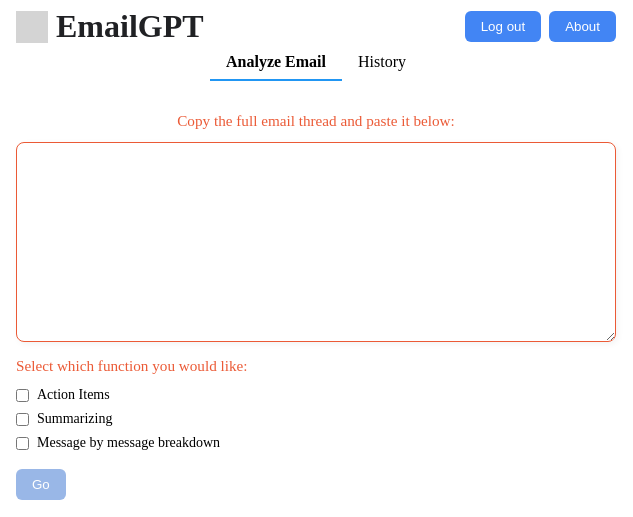
Test: MainScreen › switches between tabs
Click on the history tab
Click the text "History": [382, 62] box 358,53 -> 406,70
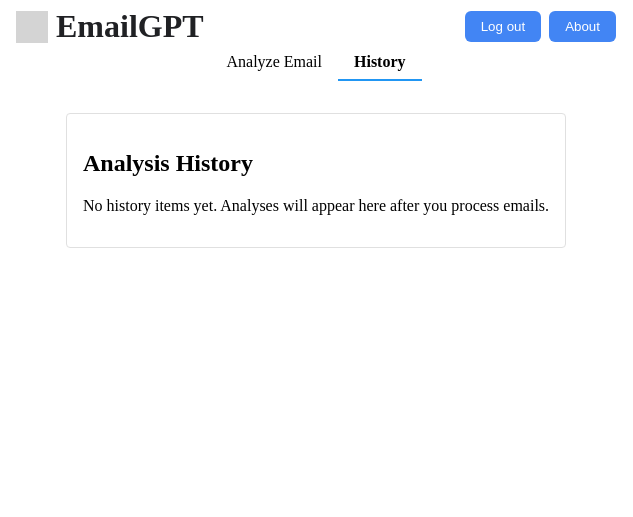
expect the heading "Analysis History" is shown: met, box 83,150 -> 253,176
expect the text "No history items yet. Analyses will appear here after you process emails." is shown: met, box 83,197 -> 549,215
Click on the analyze tab
Click the text "Analyze Email": [274, 62] box 226,53 -> 322,70
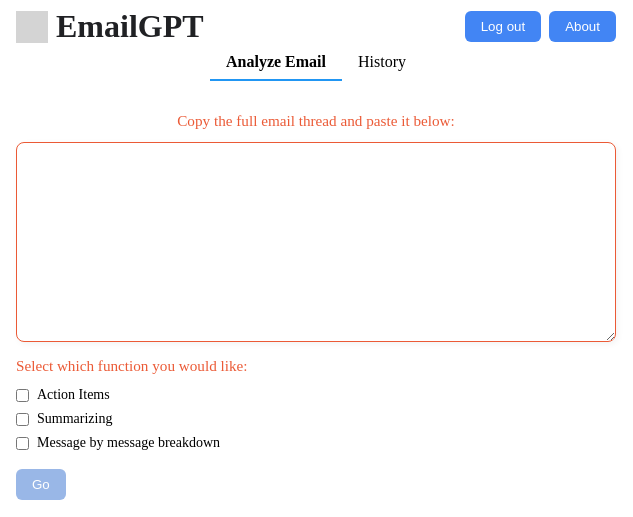
expect the text "Select which function you would like:" is shown: met, box 16,357 -> 248,374
